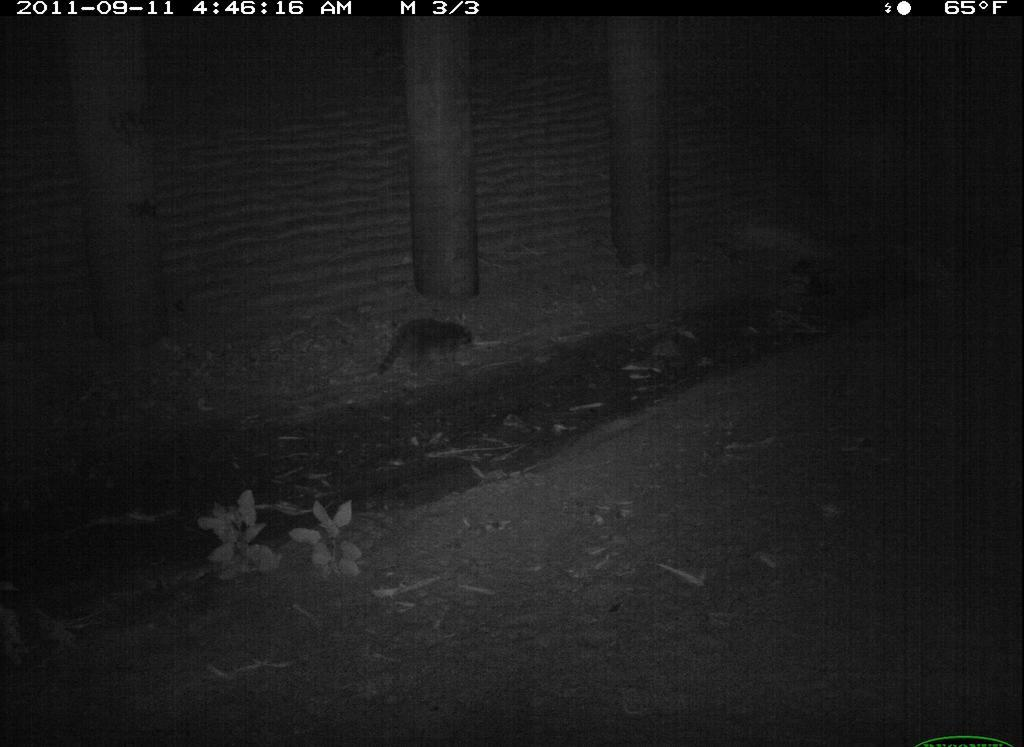raccoon: (740, 622, 954, 747)
